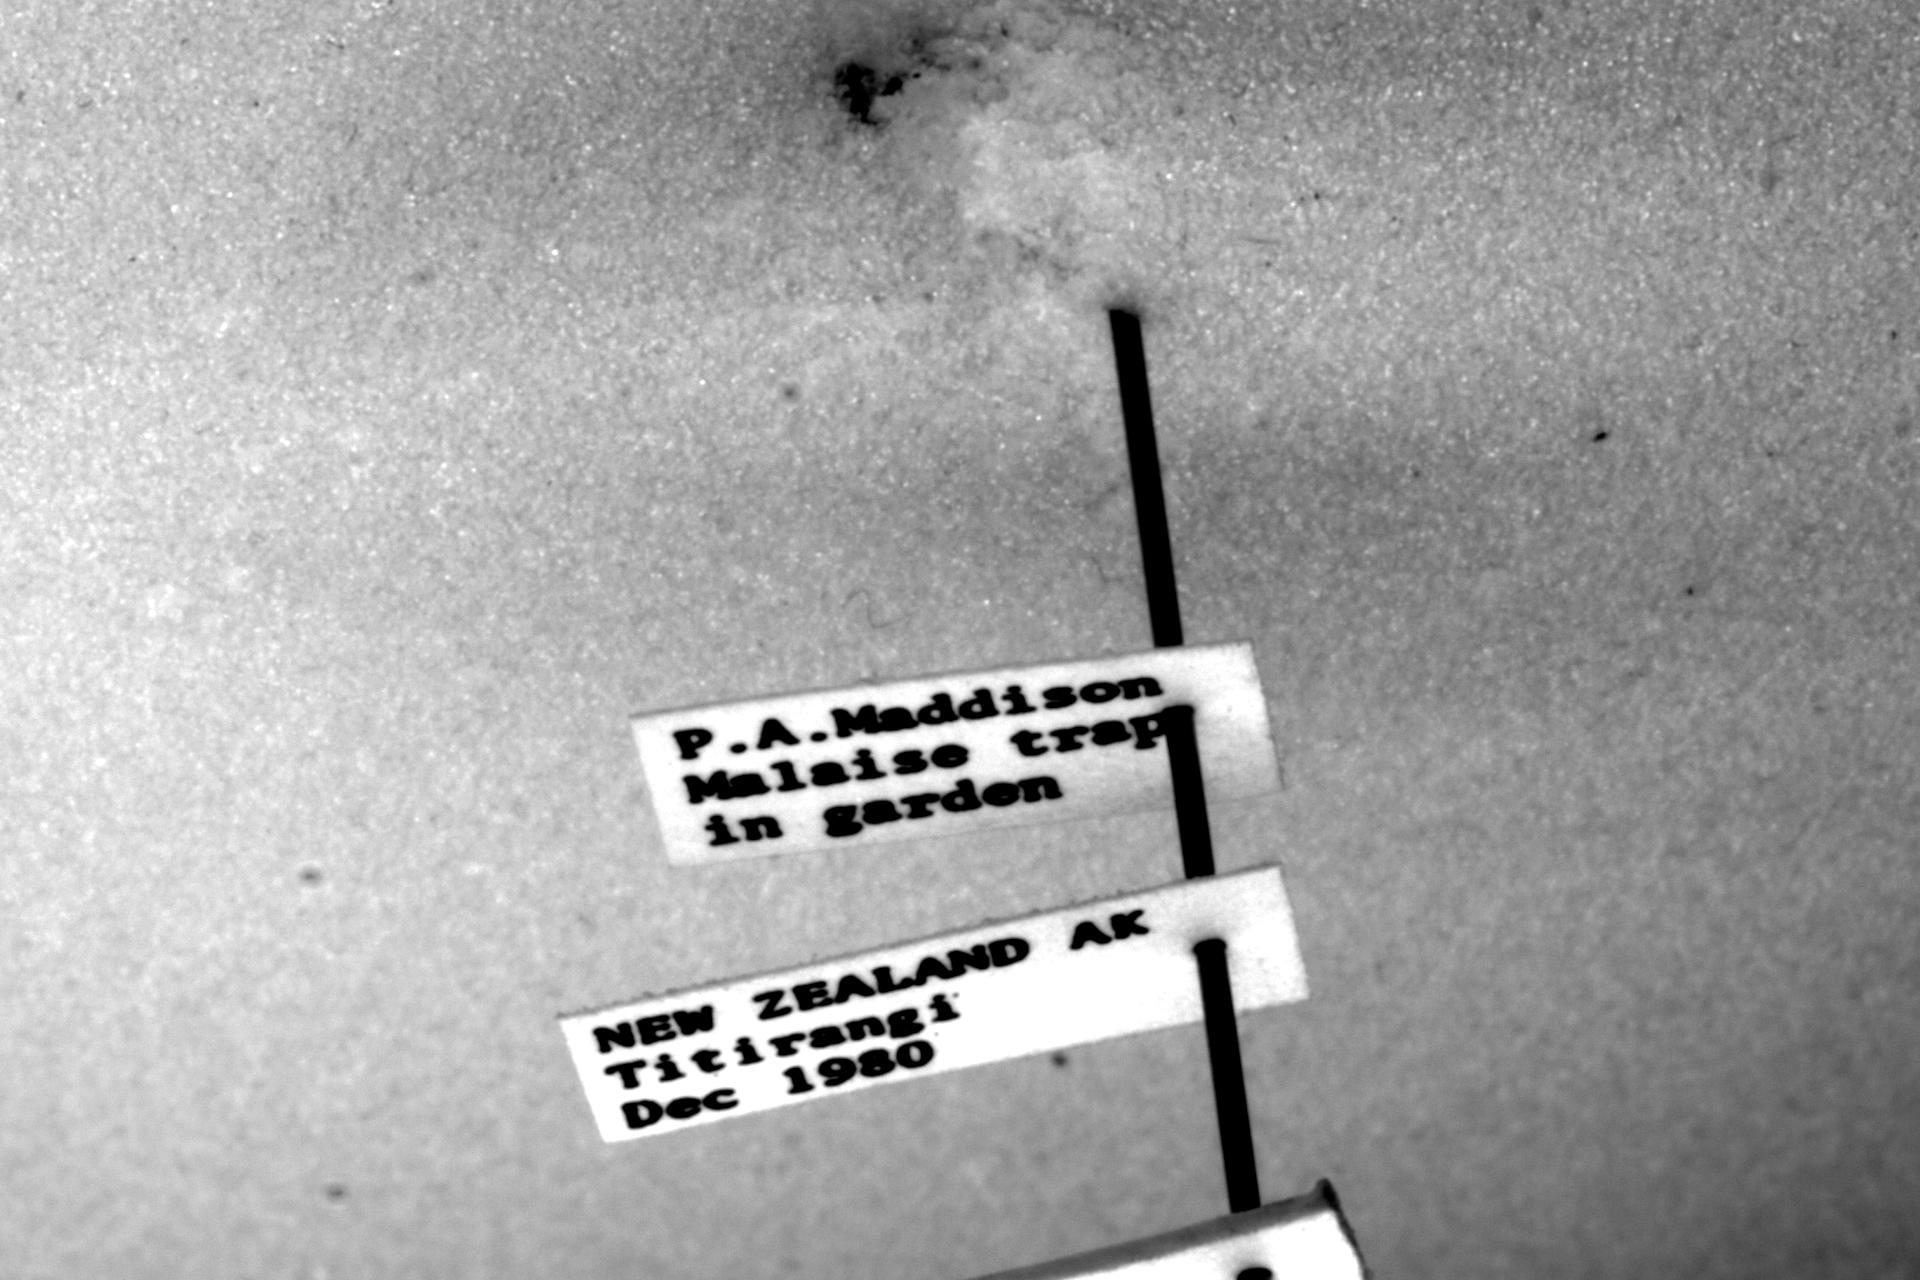typed_label: (562, 866, 1309, 1140), (634, 641, 1282, 866)
